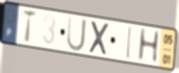3: (42, 14, 59, 48)
H: (136, 27, 162, 65)
I: (125, 25, 133, 61)
T: (21, 8, 38, 46)
U: (66, 15, 88, 53)
X: (88, 20, 111, 58)
